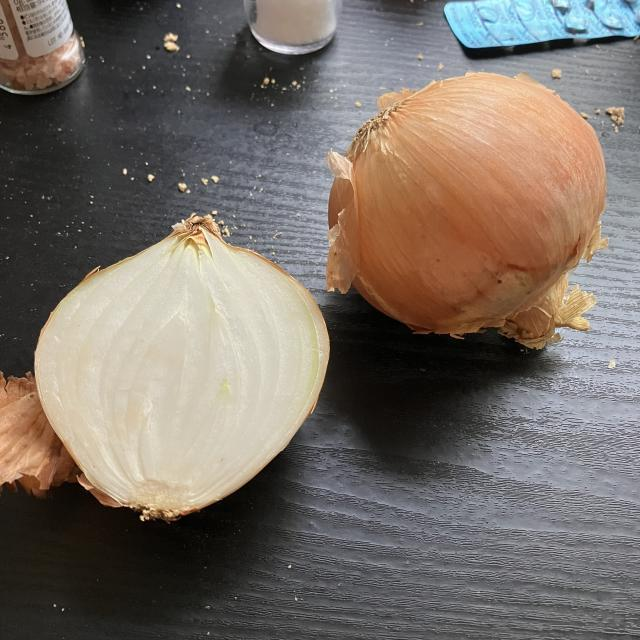Onion: (33, 210, 330, 519), (324, 72, 609, 350), (0, 367, 81, 500)
